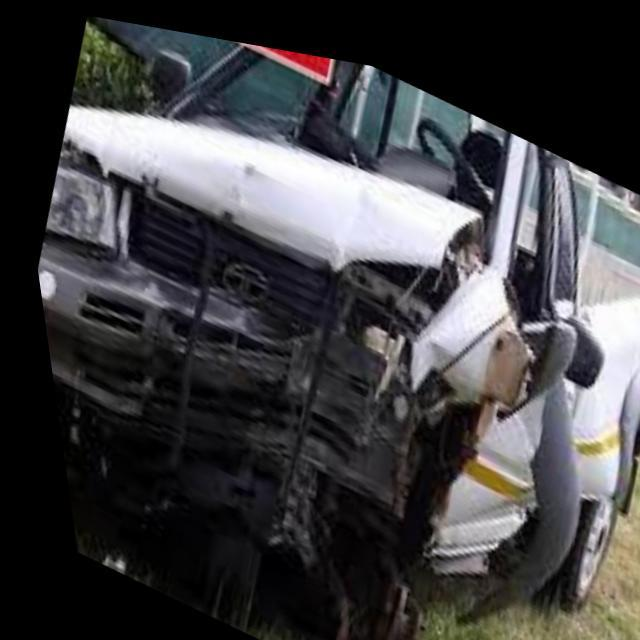crash: (55, 103, 596, 620)
